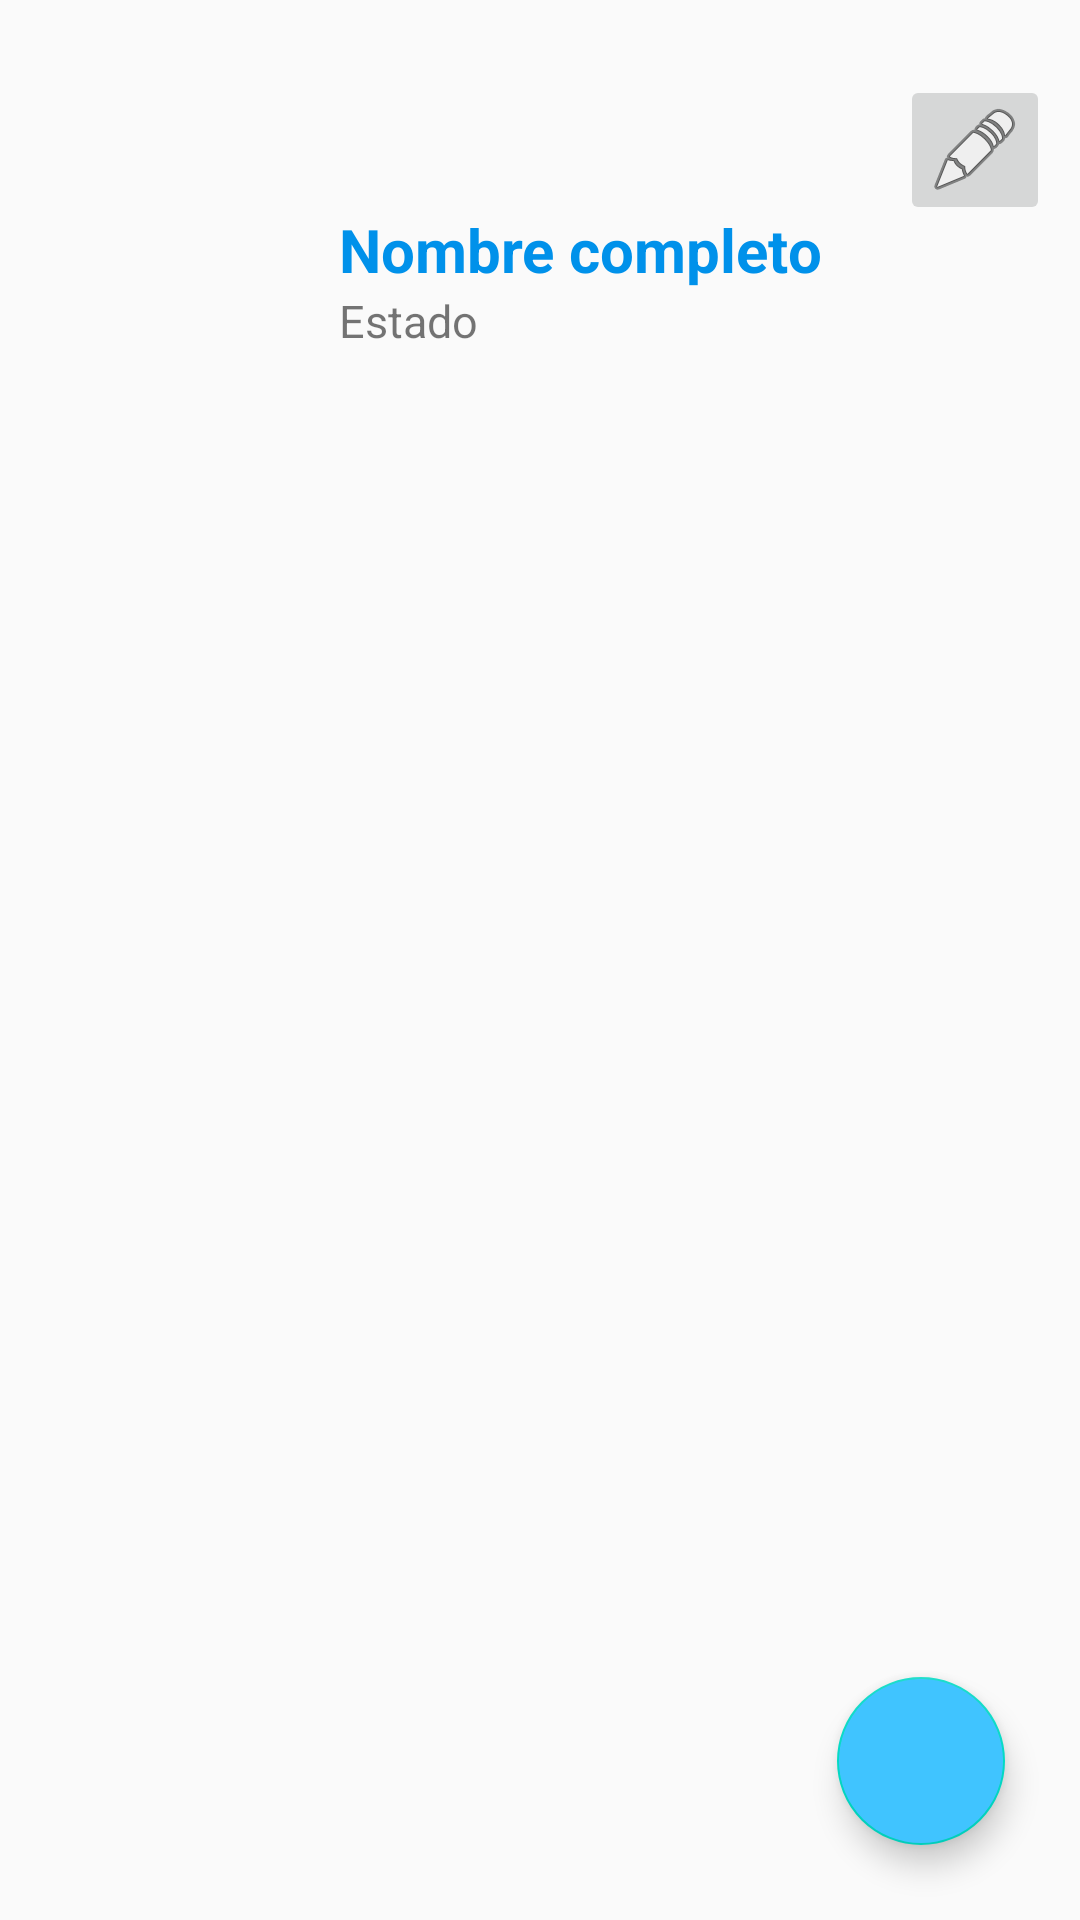

Named icons in this screenshot (1080 × 1920) and their centers, (x=x, y=y):
edit: (x=975, y=150)
